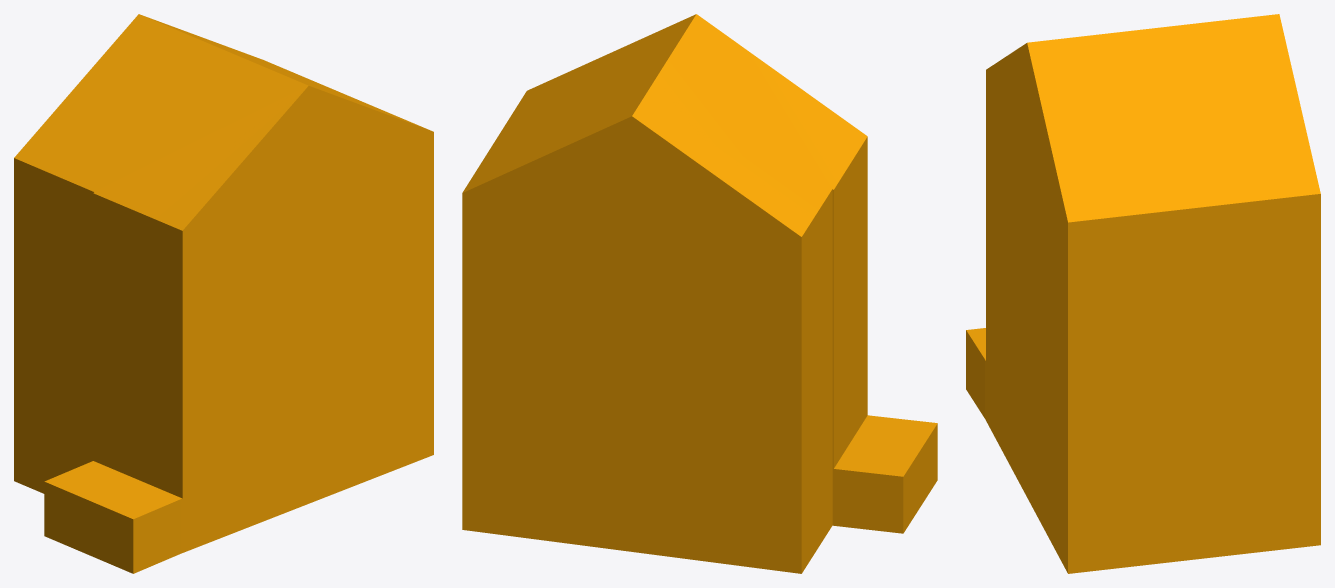
Rendered from DEHB01ALn0001OD2.gltf.
3 renders of one model, left to right at view 1: azimuth 30°, elevation 25°; view 2: azimuth 150°, elevation 25°; view 3: azimuth 270°, elevation 25°, orthographic. The views are drawn at different scales.
Parts seen in each view (by area): view 1: Z_UP; view 2: Z_UP; view 3: Z_UP.
Boxes of the visible parts, x1=… form: Z_UP: x1=14, y1=14, x2=433, y2=573; Z_UP: x1=462, y1=14, x2=937, y2=573; Z_UP: x1=966, y1=14, x2=1320, y2=573.
Size of the model in its own units: 15.64 by 16.64 by 11.76.
